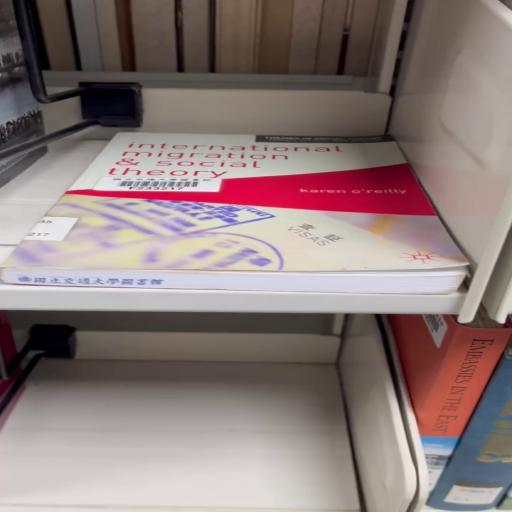flat: (0, 132, 468, 294)
